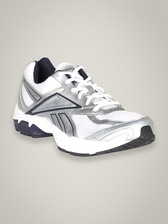shoes: (11, 56, 157, 156)
